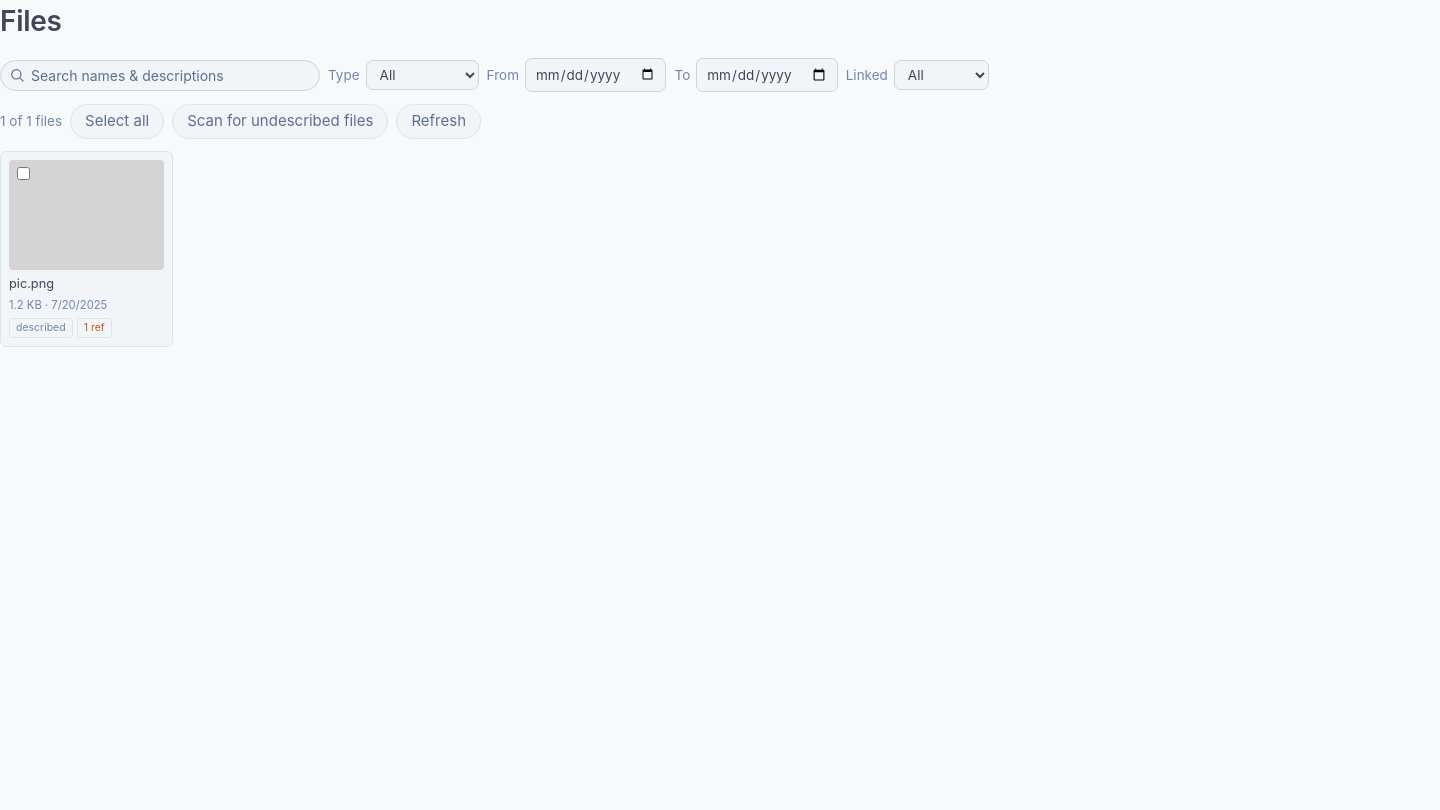
it: Files › opens the refs popover from the refs badge
The width and height of the screenshot is (1440, 810).
Click the button "1 ref" at [94, 328], box [77, 318, 112, 338]
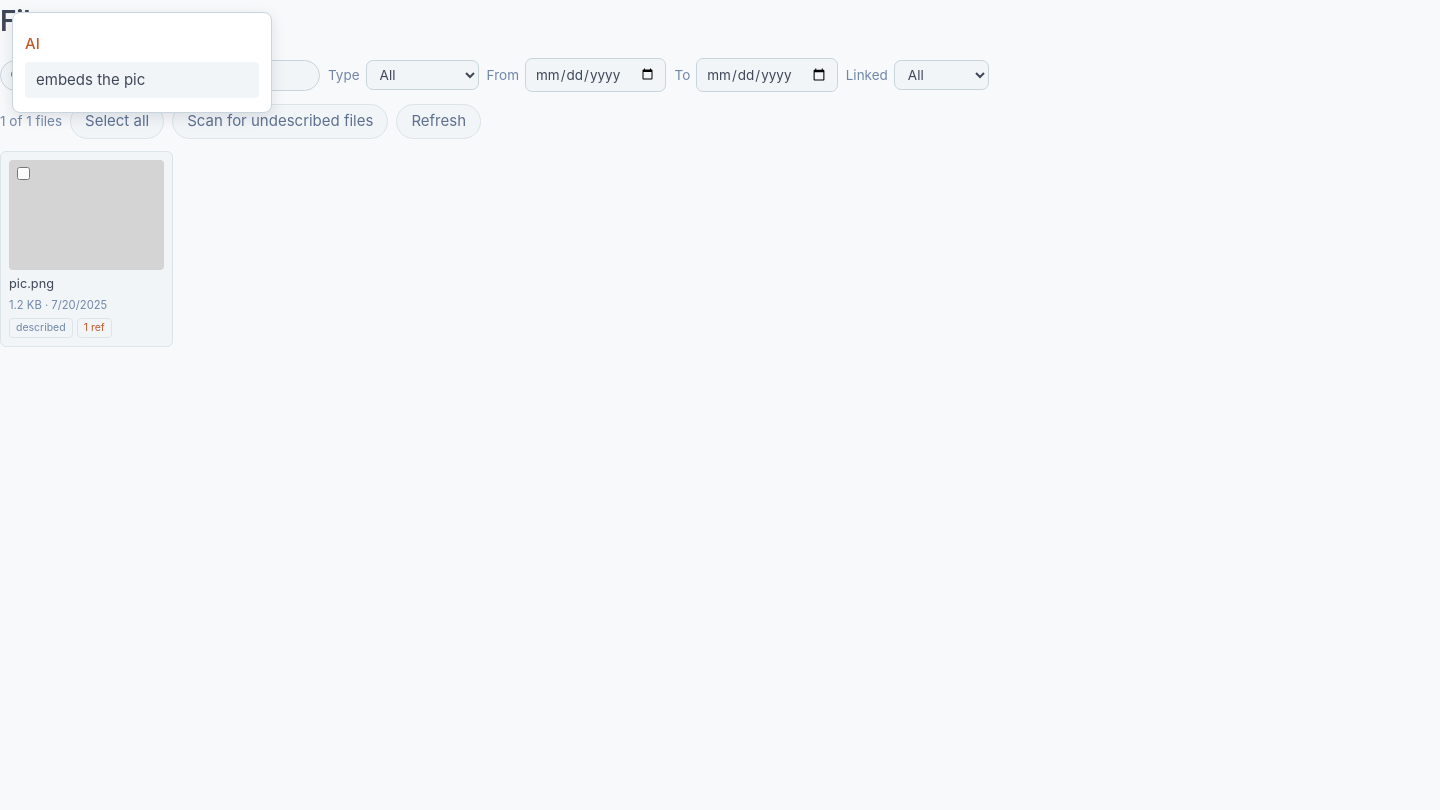
Now the text "embeds the pic" is shown, box [36, 70, 145, 88]
Press Escape
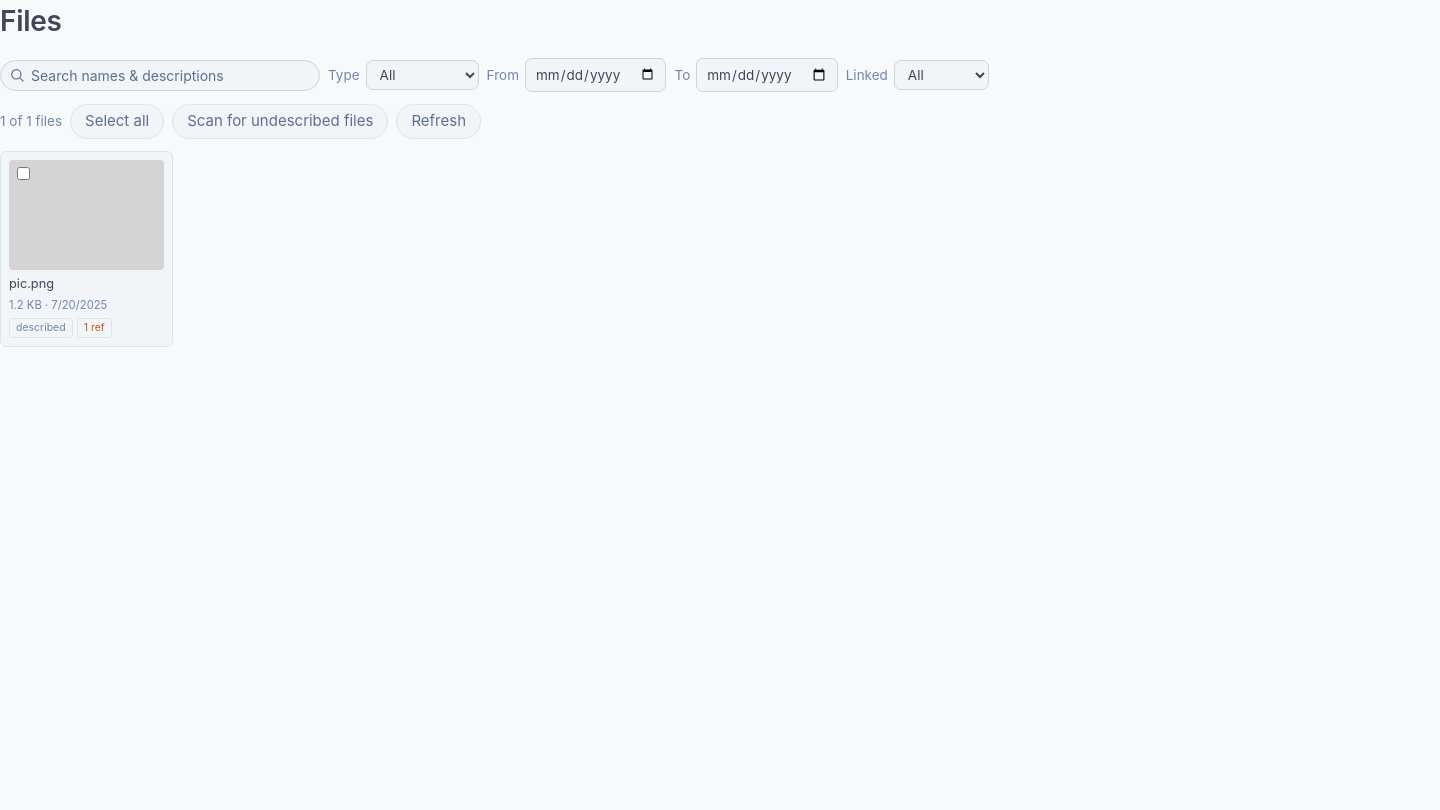
Now the dialog "References" is gone
